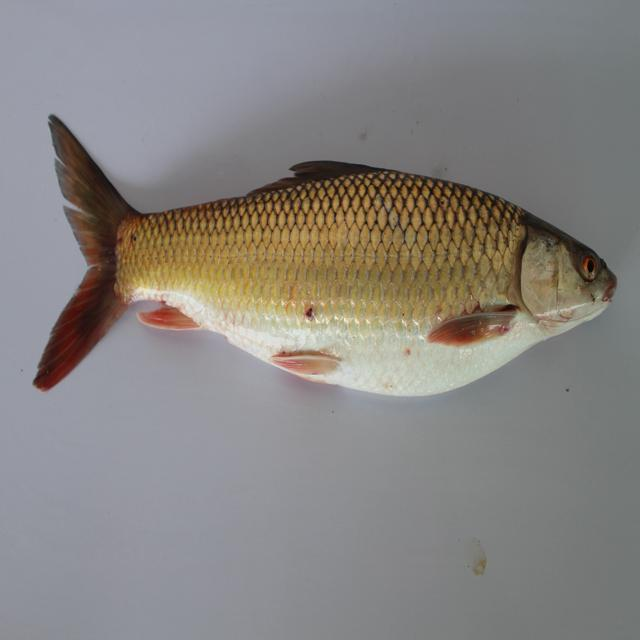Mori: (45, 93, 615, 431)
